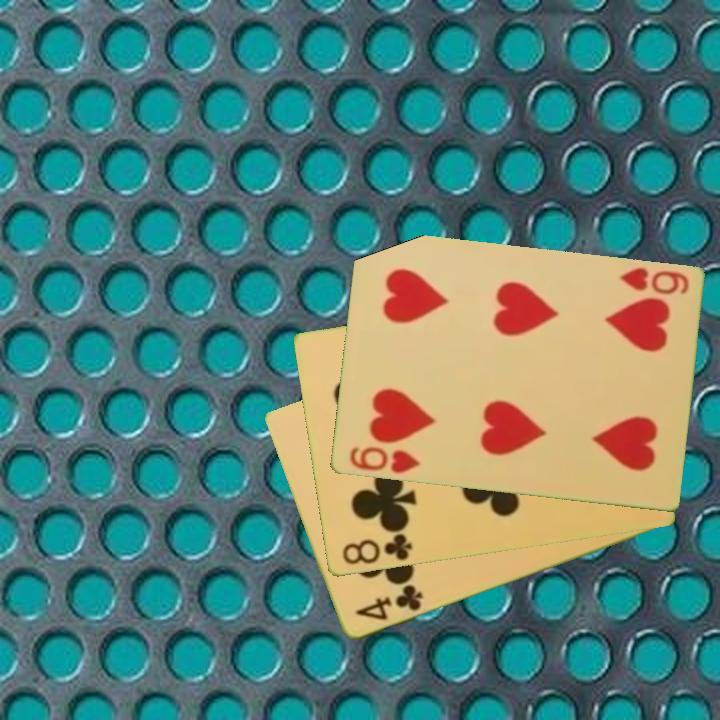4c: (352, 582, 426, 624)
6h: (345, 443, 423, 477), (615, 264, 691, 298)
8c: (338, 530, 415, 568)
